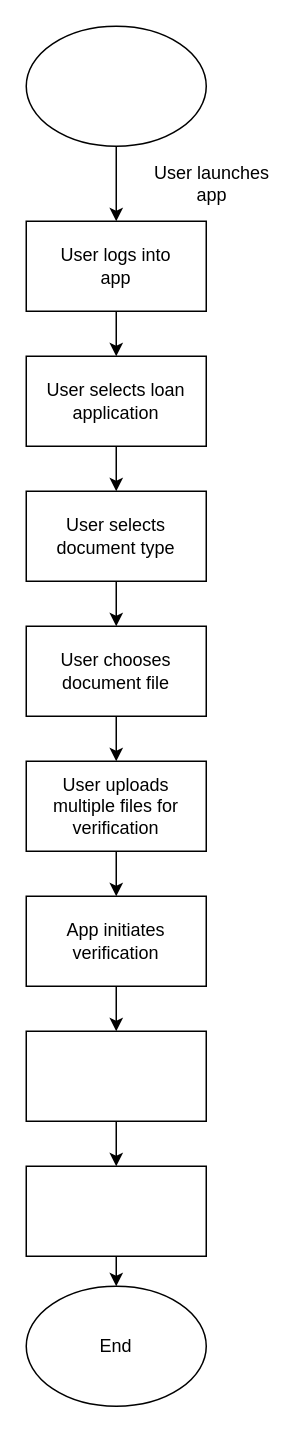
Some shapes in this 302 by 1433 pixel diagram are drawn without their labels. The shapes that lost their labels are listed below. From the top down, each one's box as (x1, y1, x2, y2) in pixels, then its label:
(25, 25, 206, 146): Start
(25, 1030, 206, 1121): App displays confirmation message
(25, 1165, 206, 1256): App updates claim status
